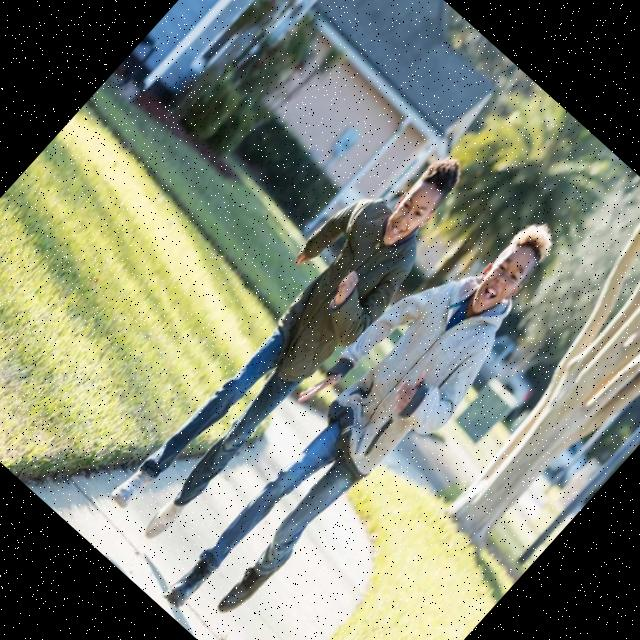Person: (136, 177, 589, 640), (85, 121, 492, 556)
